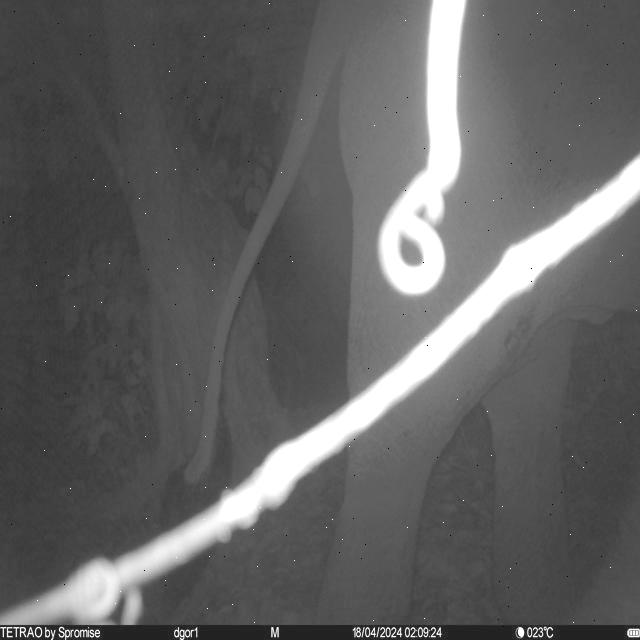elephant: (159, 0, 640, 622)
